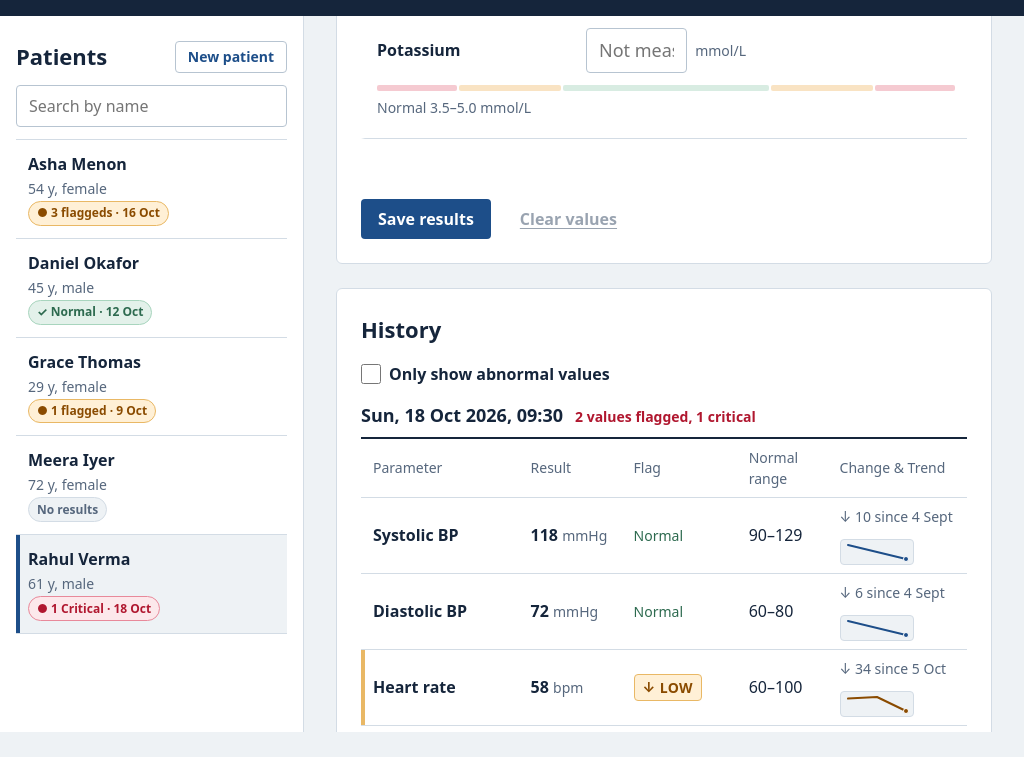
patient history view › "Only show abnormal values" hides normal values and entries with nothing abnormal
(page scrolled)
Check: the row "Systolic BP 118 mmHg Normal 90–129 ↓ 10 since 4 Sept" is shown, box top-left (361, 497), bottom-right (967, 573)
Click the checkbox labelled "Only show abnormal values".
click(371, 374)  # box top-left (361, 364), bottom-right (381, 384)
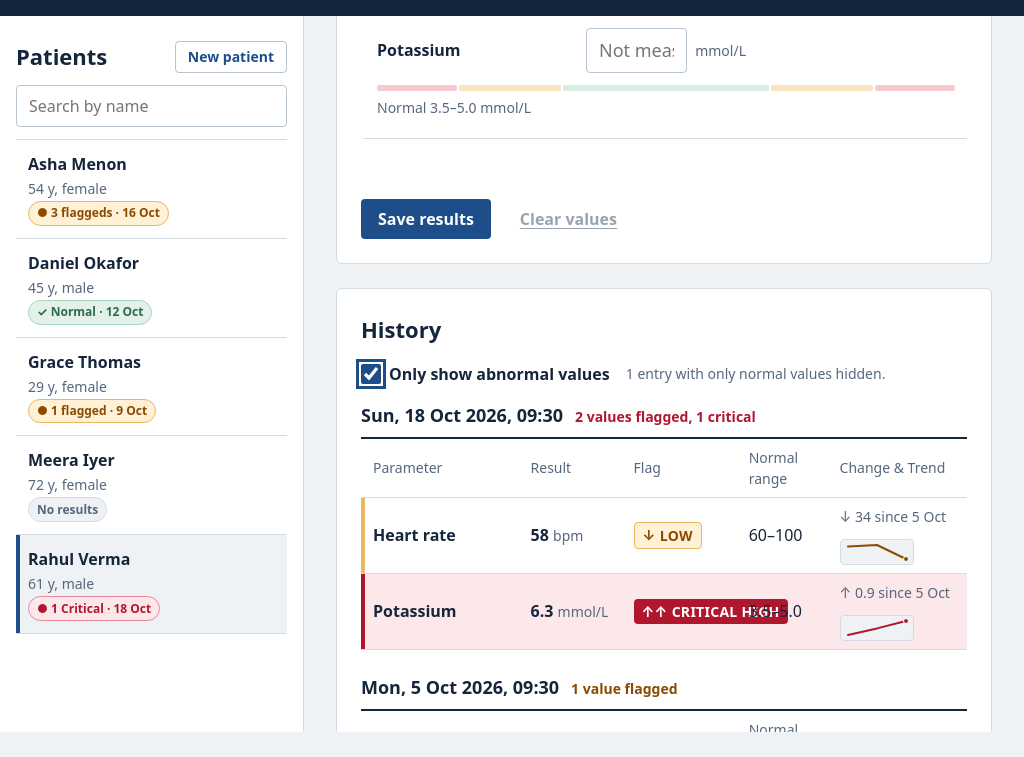
Check: the row "Heart rate 58 bpm ↓ LOW 60–100 ↓ 34 since 5 Oct" is shown, box top-left (361, 497), bottom-right (967, 573)
Check: the column heading "Systolic BP" is gone
Check: the text "1 entry with only normal values hidden." is shown, box top-left (626, 363), bottom-right (886, 384)
